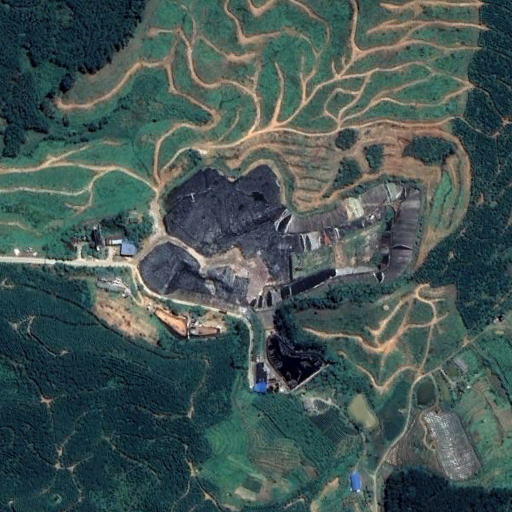lf: (140, 164, 424, 308)
